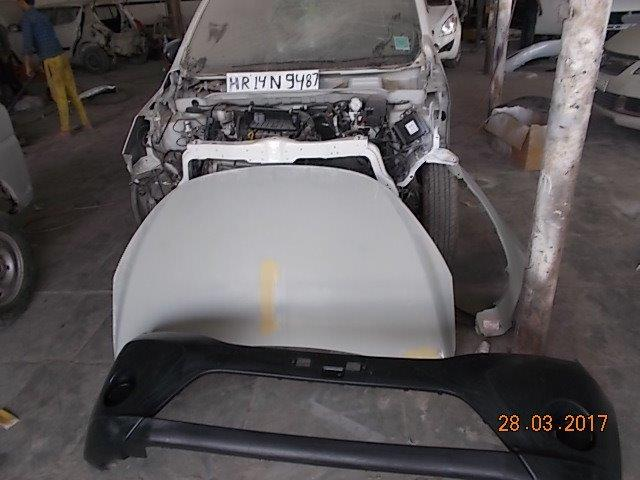Large_tear_or_damage: (112, 75, 459, 178)
